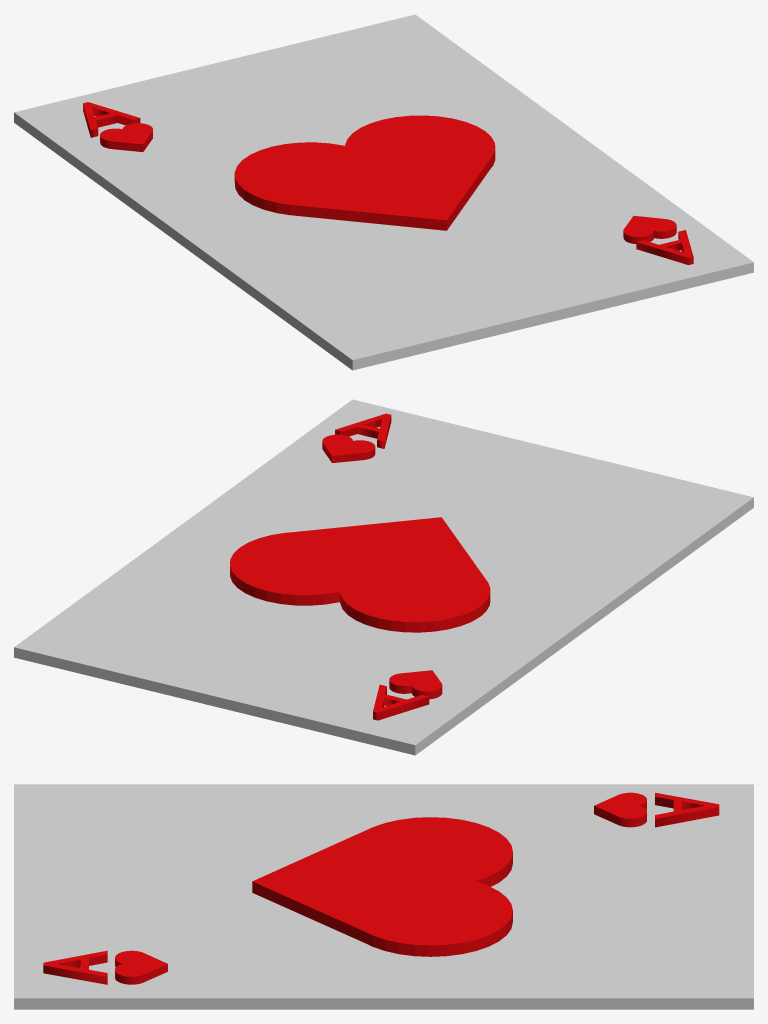
File: cardAce.glb
3 renders of one model, top to bottom at view 1: azimuth 30°, elevation 25°; view 2: azimuth 150°, elevation 25°; view 3: azimuth 270°, elevation 25°, orthographic. The views are drawn at different scales.
Visible parts, largest first — view 1: Cube; view 2: Cube; view 3: Cube.
Part boxes in pixels (x1,y1,x2,y2): Cube: [14, 14, 753, 370]; Cube: [14, 399, 753, 755]; Cube: [14, 784, 753, 1009].
Size of the model in its own units: 2.56 by 0.2052 by 3.75.
